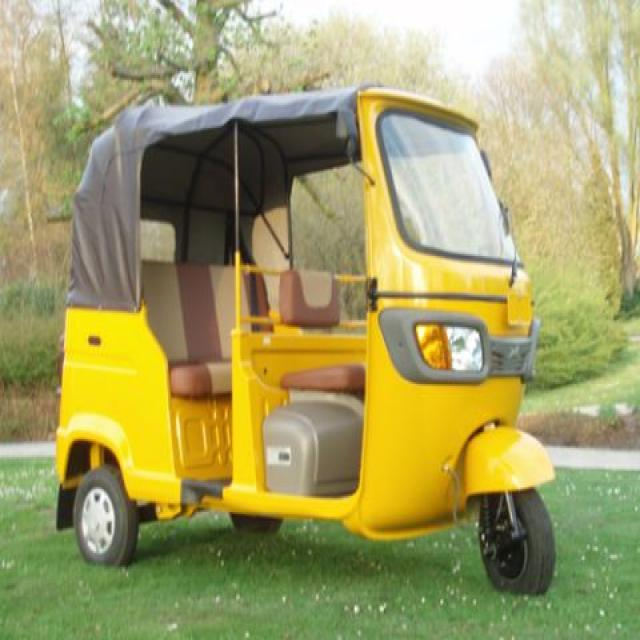autorickshaw: (56, 87, 555, 592)
